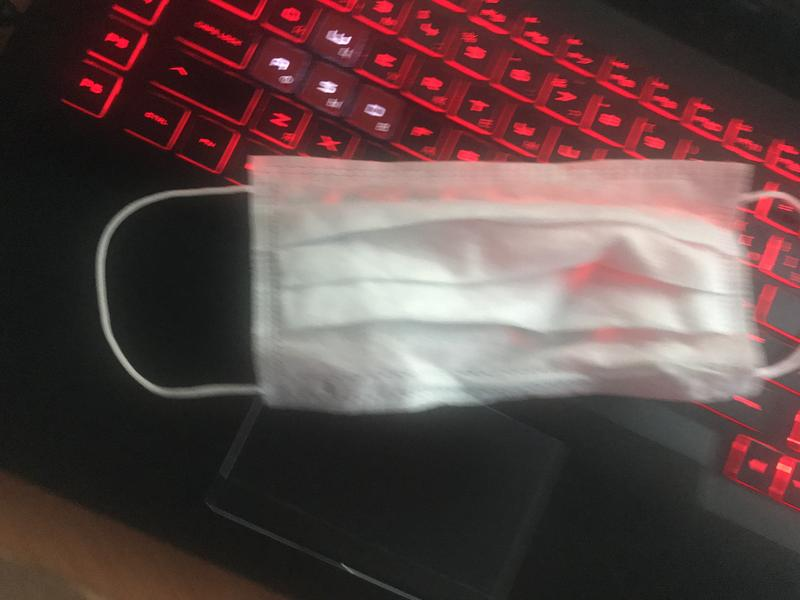medical_mask: (95, 155, 800, 411)
